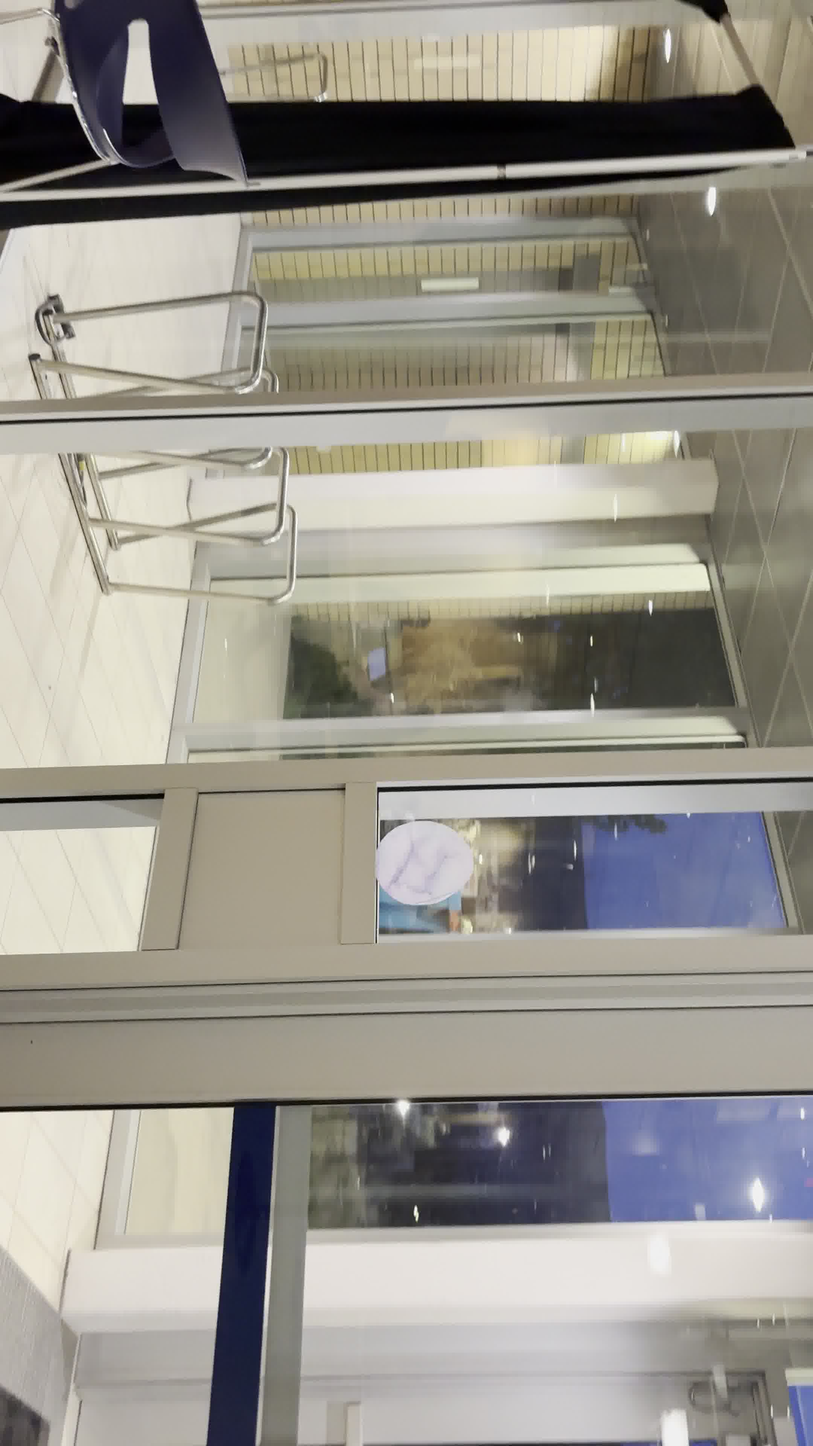Target: (374, 820, 476, 908)
